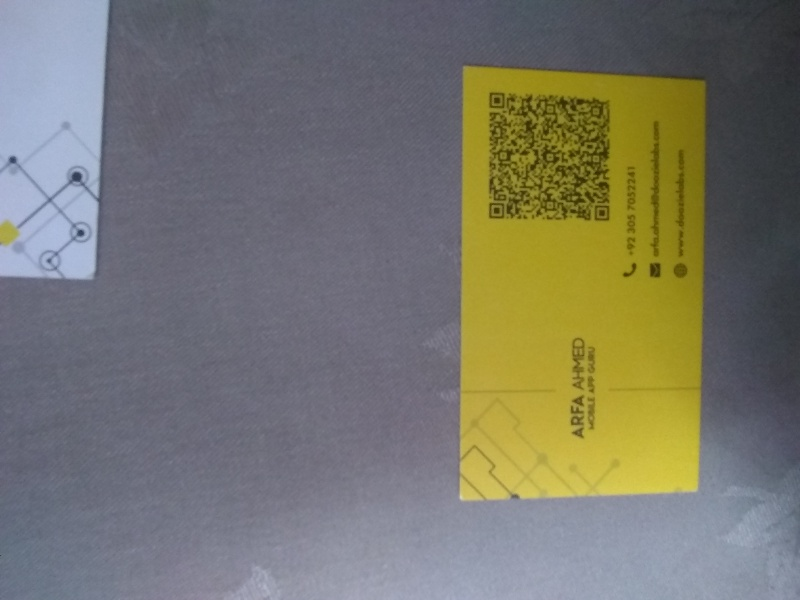front: (454, 57, 705, 502)
